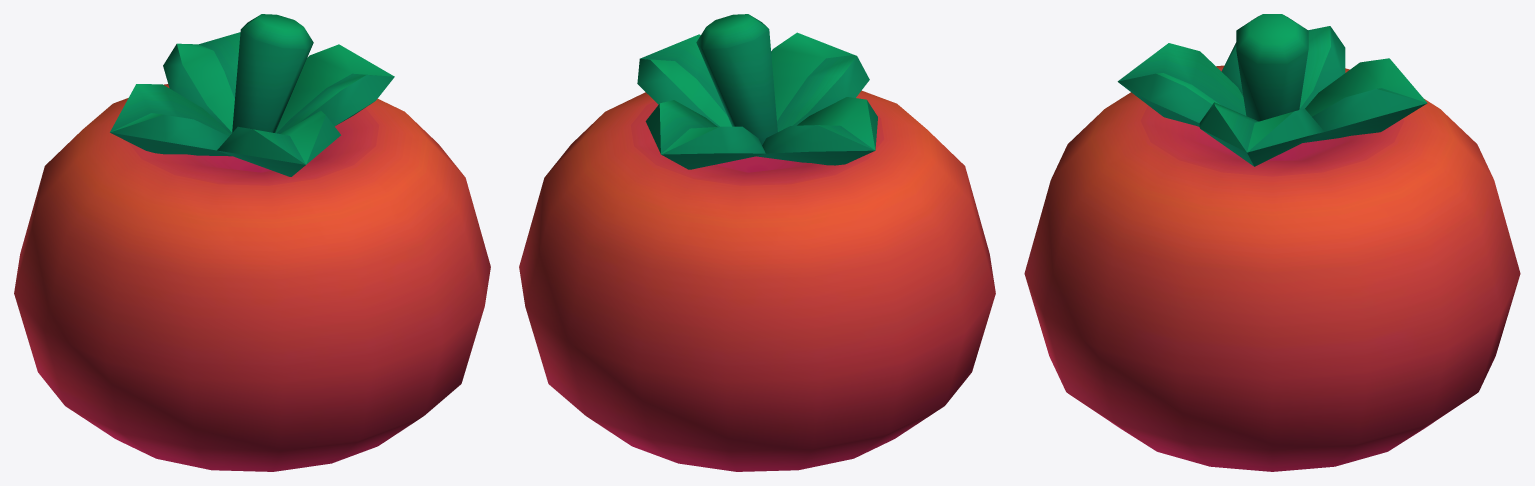
File: kaykit-restaurant-bits-food-ingredient-tomato.glb
The picture shows the model from 3 angles, left to right: view 1: azimuth 30°, elevation 25°; view 2: azimuth 150°, elevation 25°; view 3: azimuth 270°, elevation 25°; orthographic projection. The views are drawn at different scales.
Visible parts, largest first — view 1: food_ingredient_tomato; view 2: food_ingredient_tomato; view 3: food_ingredient_tomato.
Boxes of the visible parts, x1,y1,x2,y2 form: food_ingredient_tomato: (14, 14, 490, 471); food_ingredient_tomato: (519, 14, 995, 471); food_ingredient_tomato: (1024, 14, 1520, 471).
Size of the model in its own units: 0.75 by 0.7 by 0.75.
Materials: 1 (1 with a texture image).
